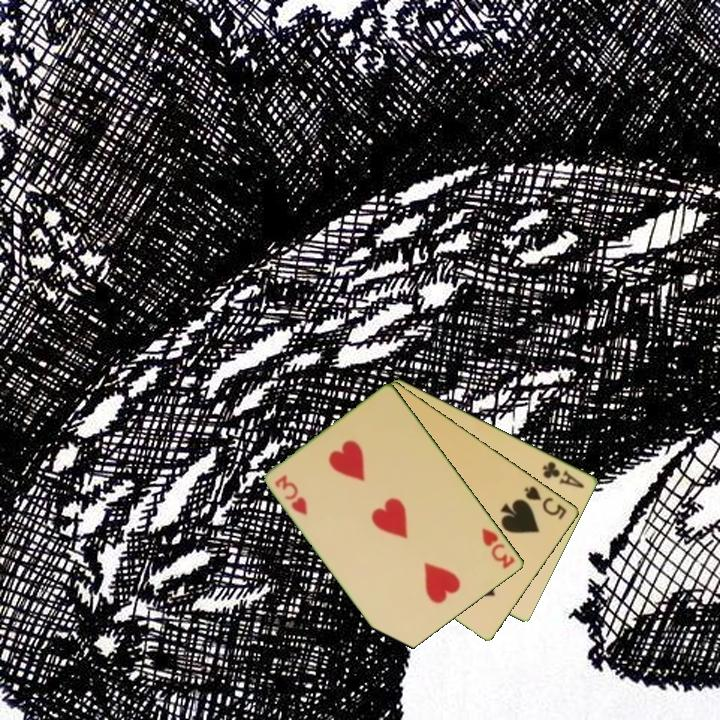3h: (478, 525, 518, 572), (272, 471, 311, 518)
5s: (521, 482, 570, 523)
Ac: (539, 458, 588, 491)
